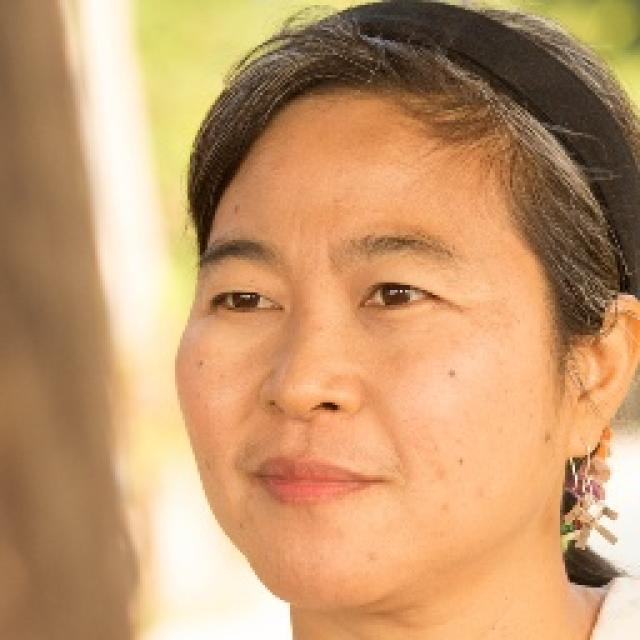earlobe: (565, 416, 607, 466)
eye: (356, 279, 444, 310), (206, 286, 284, 316)
nose: (258, 401, 356, 443)
wholeear: (565, 292, 640, 462)
